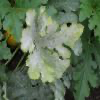Squash Powdery mildew leaf: (18, 4, 83, 82)
